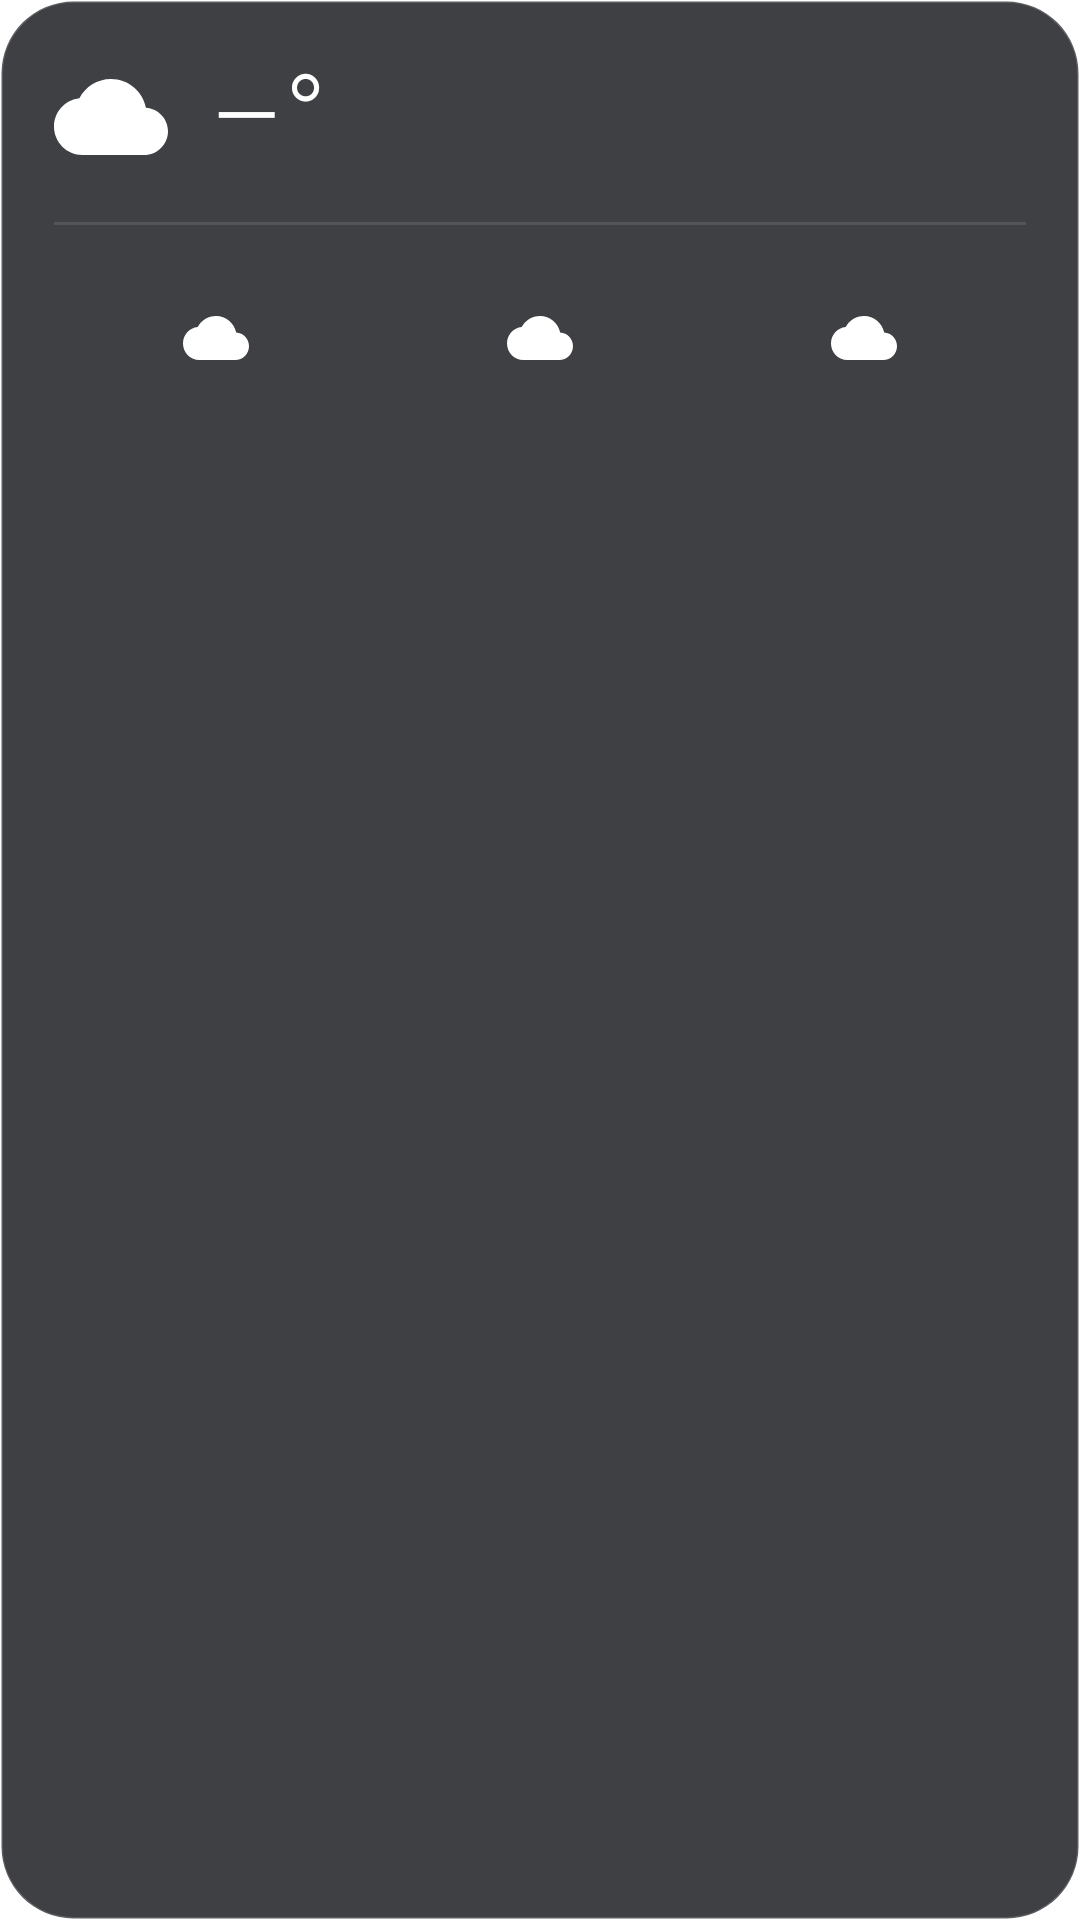

Icon bounding boxes for this 1080px x 1920px phone screenshot, format (x1, y1, x2, y2):
ansut cloud: (183, 316, 249, 360), (507, 316, 573, 360), (831, 316, 897, 360)
Weather: (54, 79, 168, 155)
